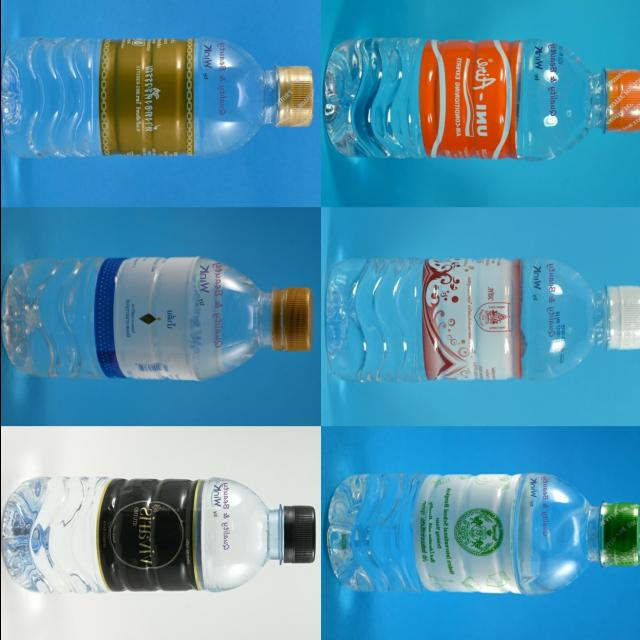plastik: (325, 258, 640, 382), (324, 38, 640, 161), (0, 258, 312, 381), (326, 473, 640, 595), (0, 37, 312, 158), (1, 477, 315, 594)
